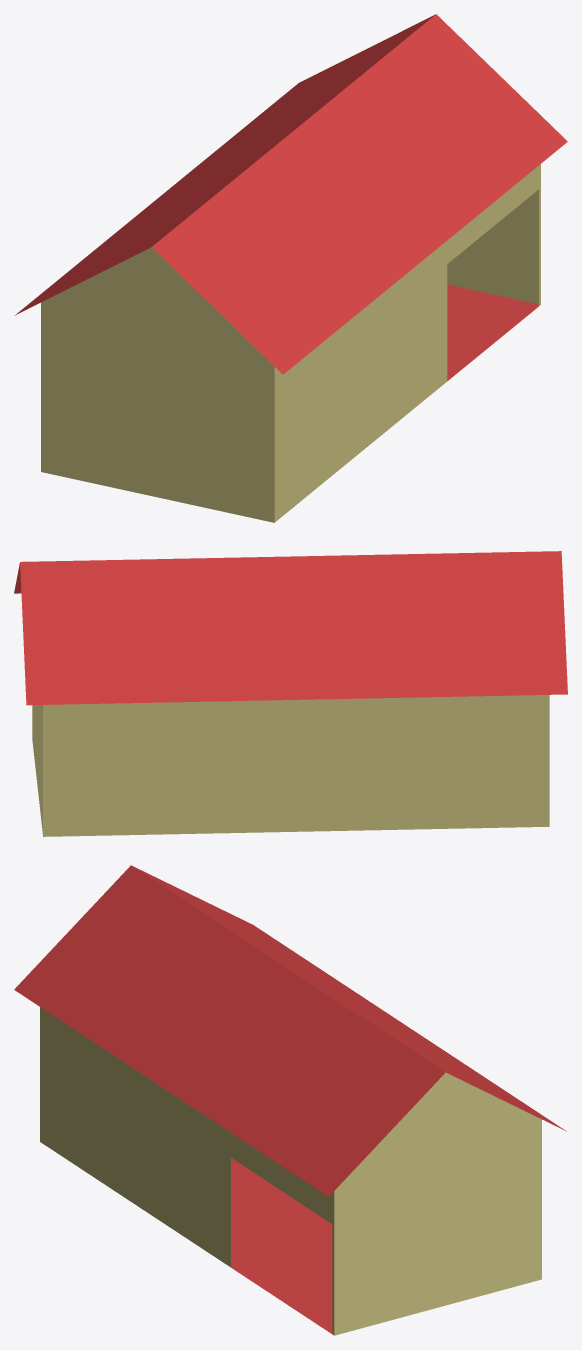
3 views of the same model, one above another, from view 1: azimuth 30°, elevation 25°; view 2: azimuth 150°, elevation 25°; view 3: azimuth 270°, elevation 25° (orthographic). The views are drawn at different scales.
Size of the model in its own units: 34.09 by 29.33 by 14.17.
